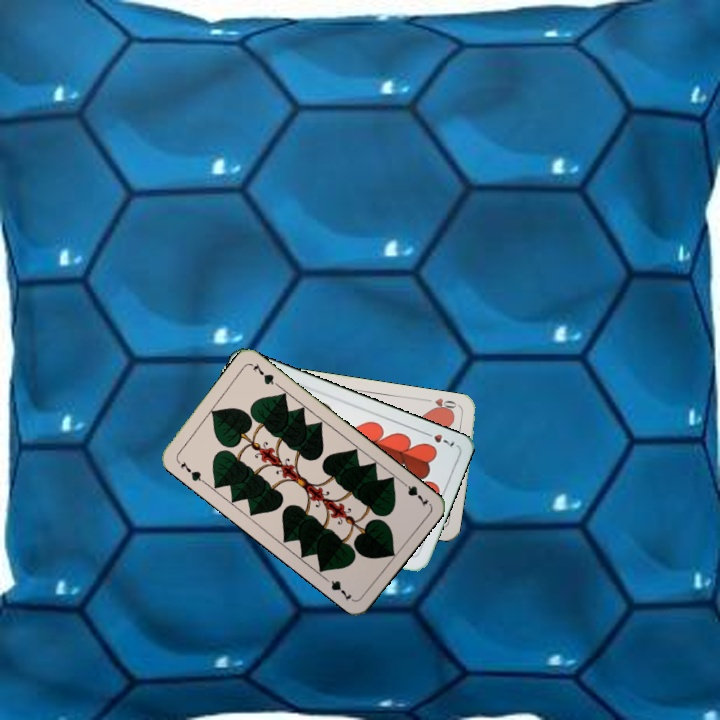G7: (397, 476, 432, 508), (173, 456, 208, 486)
H7: (419, 427, 457, 449)
HO: (422, 394, 463, 415)
